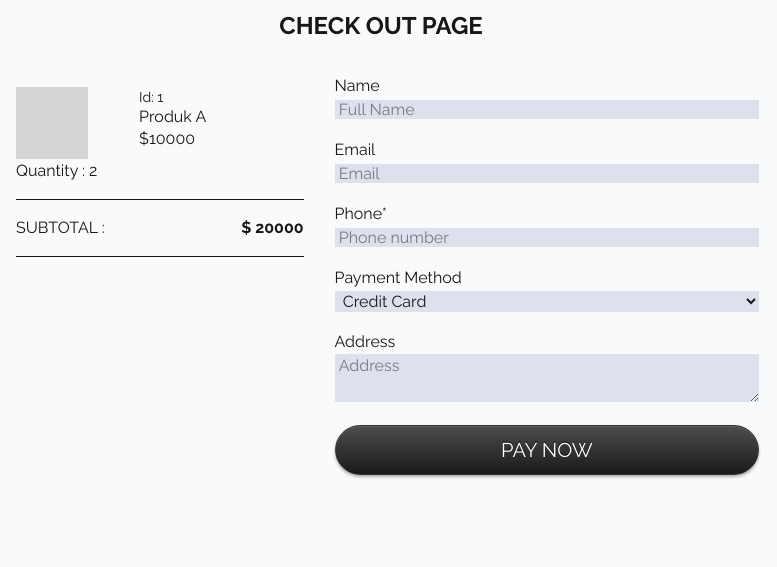
Scenario: chekOutPage › Error on input requirement : no input
The image size is (777, 567).
What coordinates should you click on to do the following:
click the button "PAY NOW"
I would click on:
 (547, 450)
Its box is [334,425,759,475].
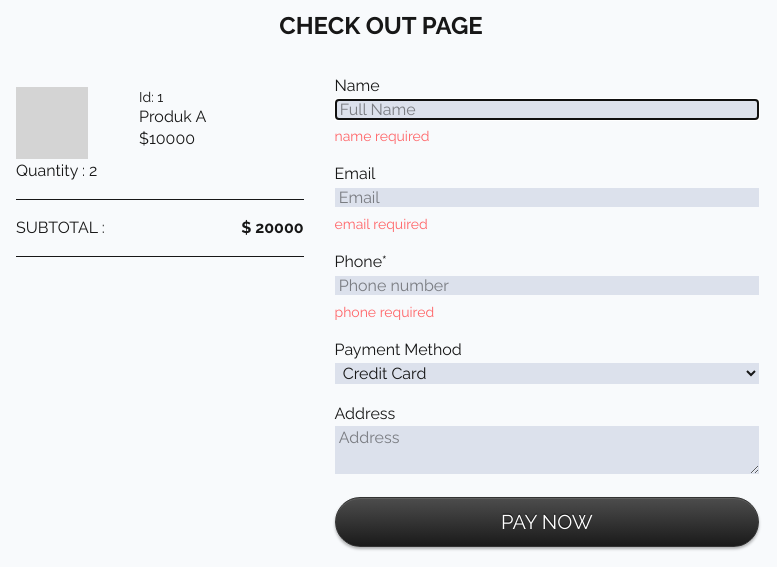
Expected: the text with test id "nameError" reads "name required", [334,128,430,144]
Expected: the text with test id "emailError" reads "email required", [334,216,428,232]
Expected: the text with test id "phoneError" reads "phone required", [334,304,434,320]
